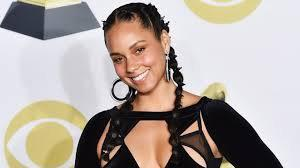Sober: (107, 24, 161, 94)
